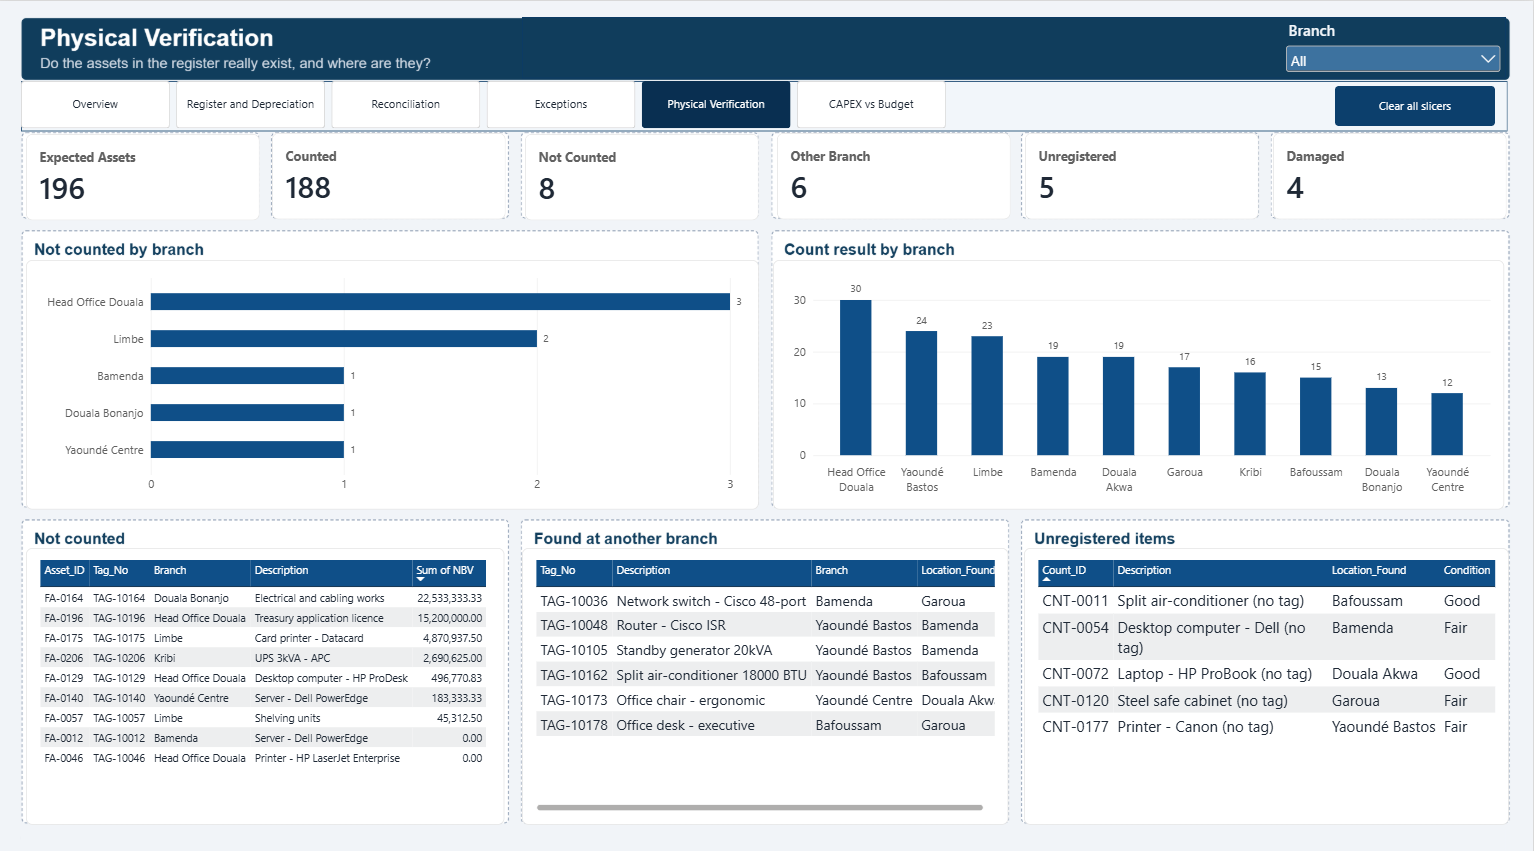

What the dashboard file says about the page in this screenshot:
{"tool":"powerbi","page":{"name":"Physical Verification","canvas":[1920,1080],"ordinal":4},"visuals":[{"type":"shape","box":[30,100,1858.3,63],"z":0},{"type":"shape","box":[656.7,20,1230,76.7],"z":1000},{"type":"cardVisual","fields":{"Data":["DAX Measures.Expected Assets"]},"box":[36,166,292,108],"z":2000},{"type":"cardVisual","fields":{"Data":["DAX Measures.Counted"]},"box":[343.3,165.6,292,108],"z":3000},{"type":"cardVisual","fields":{"Data":["DAX Measures.Not Counted"]},"box":[660,166,292,108],"z":4000},{"type":"cardVisual","fields":{"Data":["DAX Measures.Other Branch"]},"box":[975.6,165.6,292,108],"z":5000},{"type":"cardVisual","fields":{"Data":["DAX Measures.Unregistered"]},"box":[1284.4,165.6,292,108],"z":6000},{"type":"cardVisual","fields":{"Data":["DAX Measures.Damaged"]},"box":[1594.4,164.4,292,108],"z":7000},{"type":"barChart","fields":{"Category":["dimBranches.Branch"],"Y":["DAX Measures.Not Counted"]},"box":[36,324,916,312],"z":8000},{"type":"columnChart","fields":{"Category":["dimBranches.Branch"],"Y":["DAX Measures.Counted"]},"box":[970,324,914,312],"z":9000},{"type":"tableEx","fields":{"Values":["qExceptions_NotCounted.Asset_ID","qExceptions_NotCounted.Tag_No","qExceptions_NotCounted.Branch","qExceptions_NotCounted.Description","Sum(qExceptions_NotCounted.NBV)"]},"box":[36,684,598,346],"z":10000},{"type":"tableEx","fields":{"Values":["qExceptions_WrongLocation.Tag_No","qExceptions_WrongLocation.Description","qExceptions_WrongLocation.Branch","qExceptions_WrongLocation.Location_Found"]},"box":[656,684,608,346],"z":11000},{"type":"tableEx","fields":{"Values":["qExceptions_UnregisteredItems.Count_ID","qExceptions_UnregisteredItems.Description","qExceptions_UnregisteredItems.Location_Found","qExceptions_UnregisteredItems.Condition"]},"box":[1284,684,606,346],"z":12000},{"type":"slicer","fields":{"Values":["dimBranches.Branch"]},"box":[1606,24,277.5,65],"z":13000},{"type":"pageNavigator","box":[30,100,1158,59],"z":14000},{"type":"shape","box":[30,1036,1856,30],"z":15000},{"type":"actionButton","box":[1672,106,200,50],"z":16000}]}

Visuals, with their boxes in screenshot pixels (x1, y1, x2, y2), scaled from the page's 1920x1080 canvas onto the 1534x851 screenshot:
shape: crop(24, 79, 1509, 128)
shape: crop(525, 16, 1507, 76)
cardVisual - DAX Measures.Expected Assets: crop(29, 131, 262, 216)
cardVisual - DAX Measures.Counted: crop(274, 130, 508, 216)
cardVisual - DAX Measures.Not Counted: crop(527, 131, 761, 216)
cardVisual - DAX Measures.Other Branch: crop(779, 130, 1013, 216)
cardVisual - DAX Measures.Unregistered: crop(1026, 130, 1259, 216)
cardVisual - DAX Measures.Damaged: crop(1274, 130, 1507, 215)
barChart - dimBranches.Branch x DAX Measures.Not Counted: crop(29, 255, 761, 501)
columnChart - dimBranches.Branch x DAX Measures.Counted: crop(775, 255, 1505, 501)
tableEx - qExceptions_NotCounted.Asset_ID x qExceptions_NotCounted.Tag_No: crop(29, 539, 507, 812)
tableEx - qExceptions_WrongLocation.Tag_No x qExceptions_WrongLocation.Description: crop(524, 539, 1010, 812)
tableEx - qExceptions_UnregisteredItems.Count_ID x qExceptions_UnregisteredItems.Description: crop(1026, 539, 1510, 812)
slicer - dimBranches.Branch: crop(1283, 19, 1505, 70)
pageNavigator: crop(24, 79, 949, 125)
shape: crop(24, 816, 1507, 840)
actionButton: crop(1336, 84, 1496, 123)
